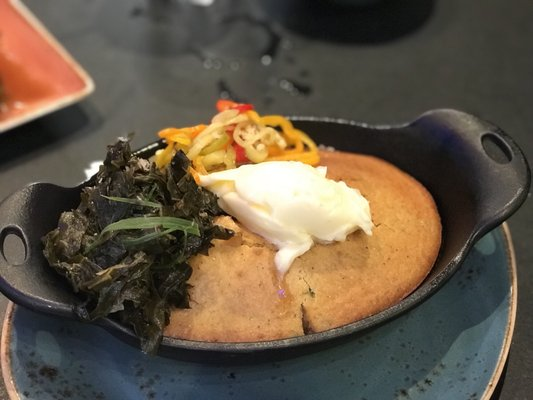soup: (11, 101, 445, 349)
sushi: (39, 106, 532, 399)
